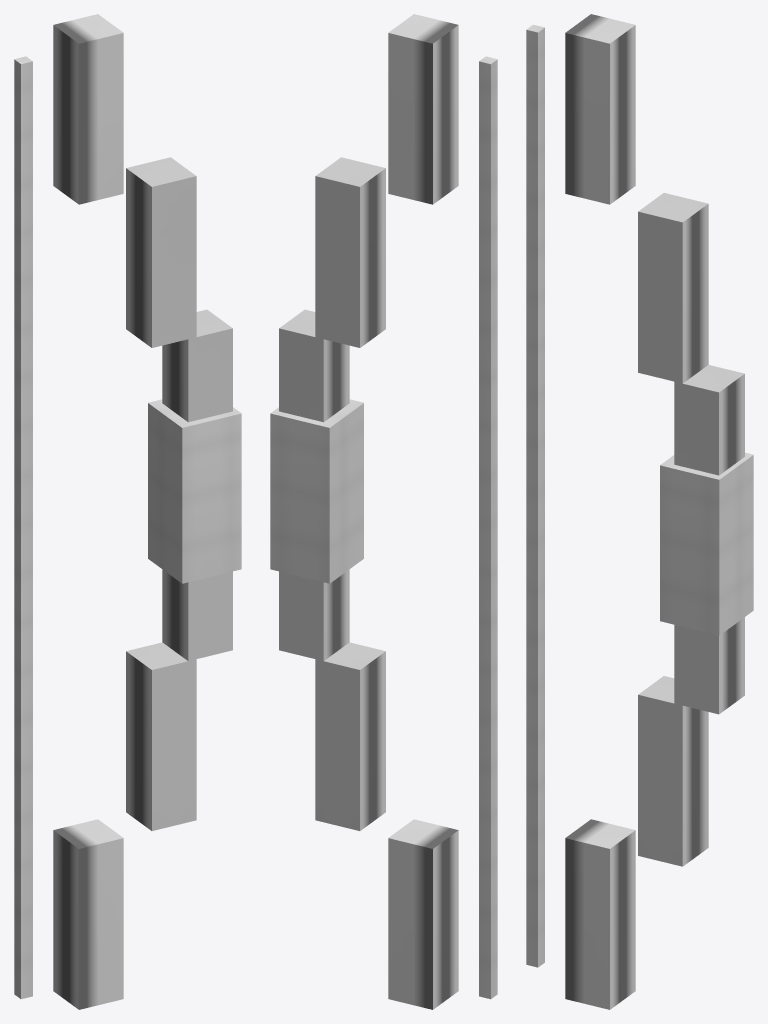
File: bow_short.obj
3 renders of one model, left to right at view 1: azimuth 30°, elevation 25°; view 2: azimuth 150°, elevation 25°; view 3: azimuth 330°, elevation 25°, orthographic.
Parts seen in each view (by area): view 1: bow_short; view 2: bow_short; view 3: bow_short.
Part boxes in pixels (x1,y1,x2,y2): bow_short: (14, 14, 241, 1009); bow_short: (270, 14, 497, 1009); bow_short: (526, 14, 753, 1009).
Size of the model in its own units: 0.139 by 0.62 by 0.04.
